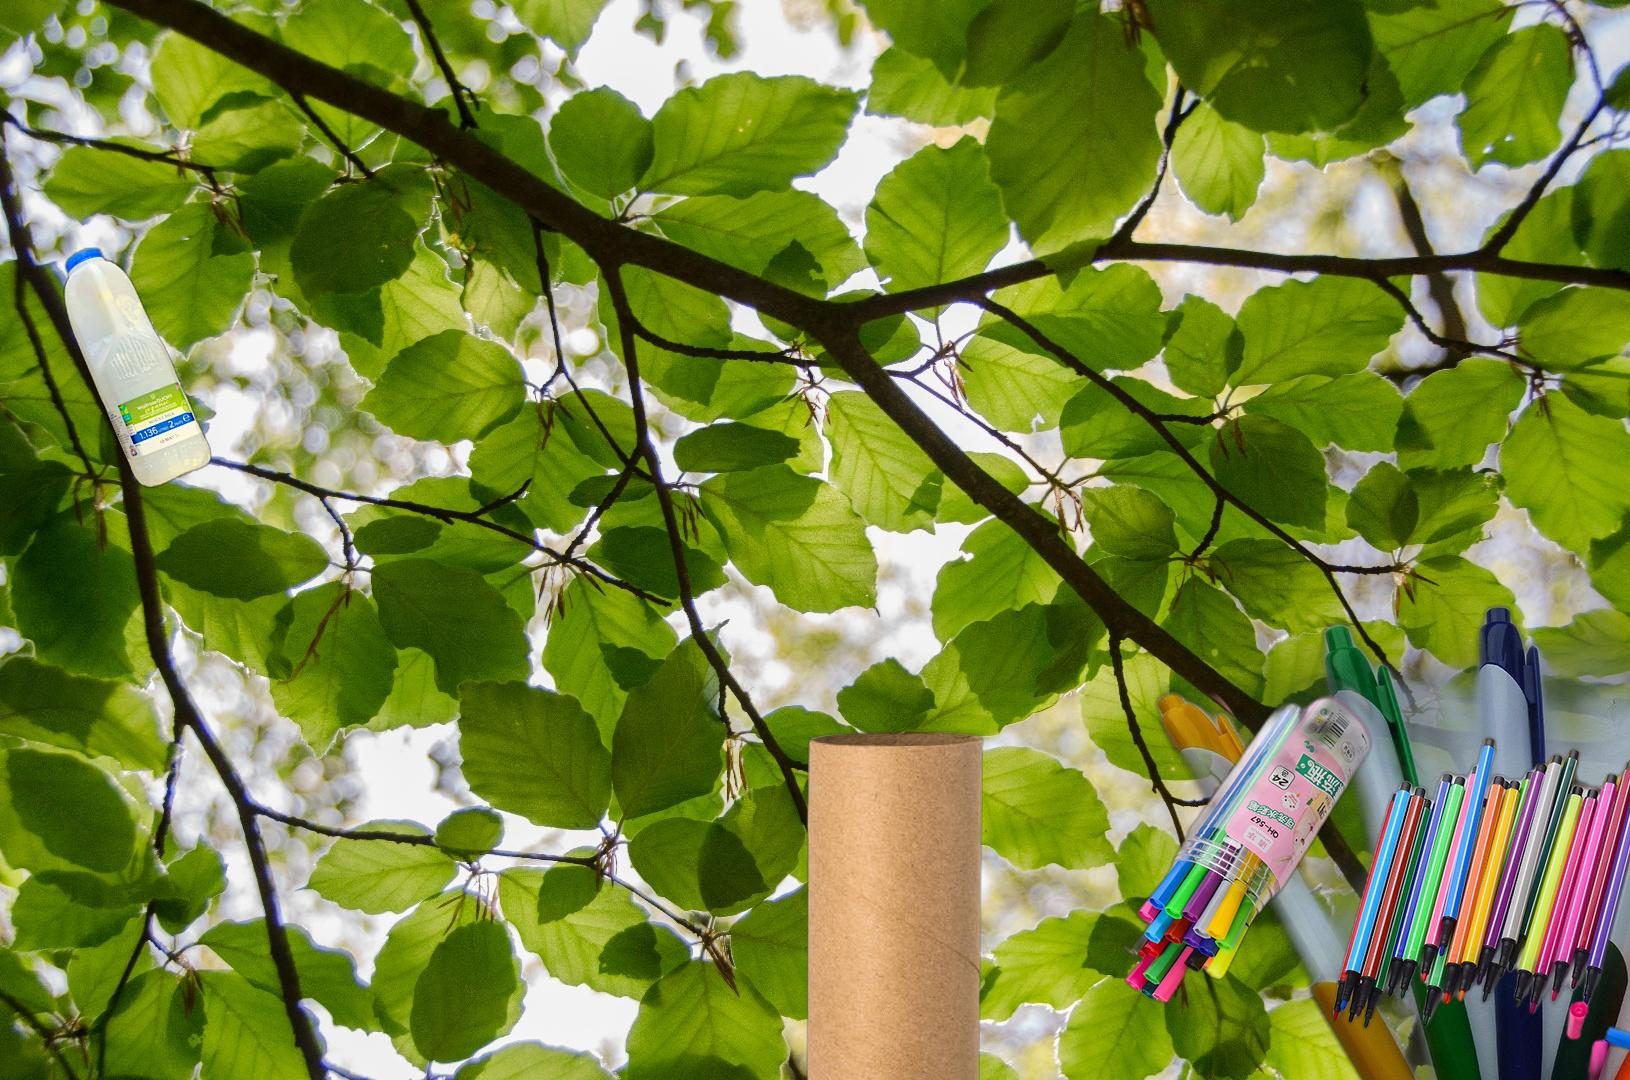penholder: (1151, 522, 1630, 1080), (1117, 670, 1630, 1080)
plastic-bottles: (60, 242, 216, 494)
trashbox-cardboard: (804, 726, 987, 1080)
